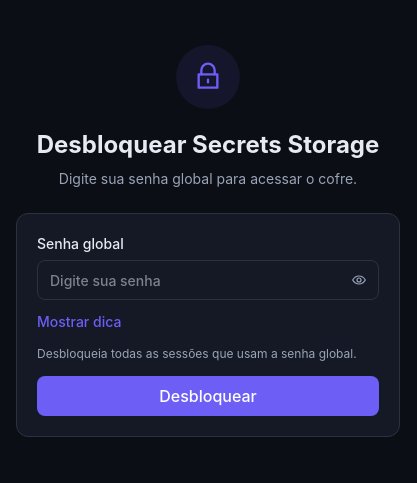
UnlockApp › revela a dica somente após a ação explícita
Click the button "Mostrar dica" at (79, 322), box [37,312,121,332]
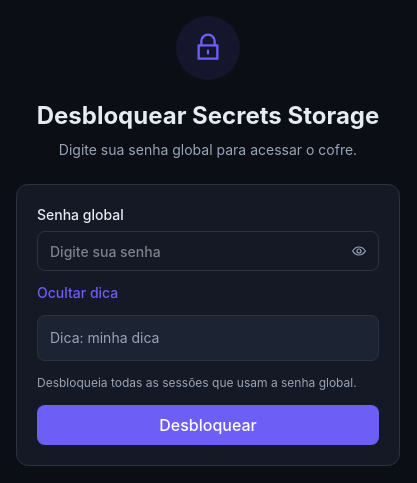
Expected: the text "Dica: minha dica" is shown, [37,315,379,361]
